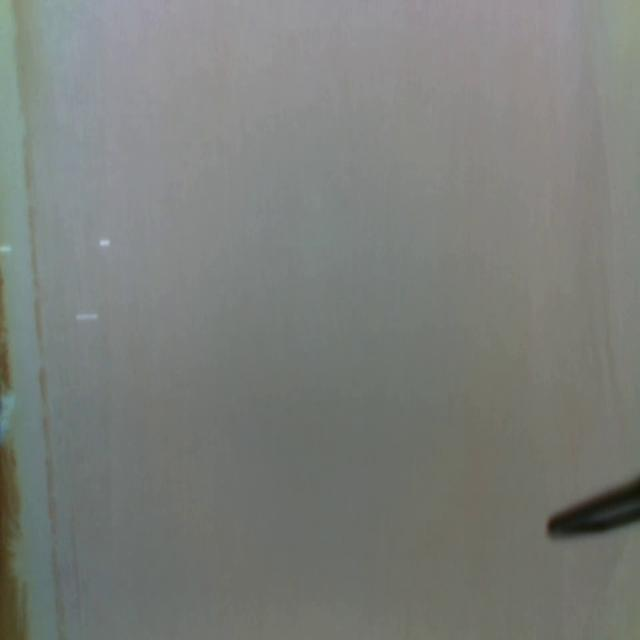color bleeding: (0, 0, 70, 639)
